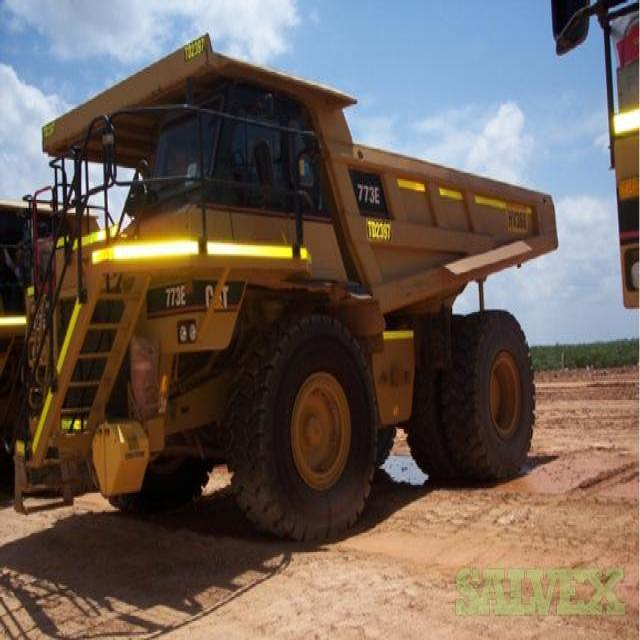dump_truck: (13, 30, 560, 542)
